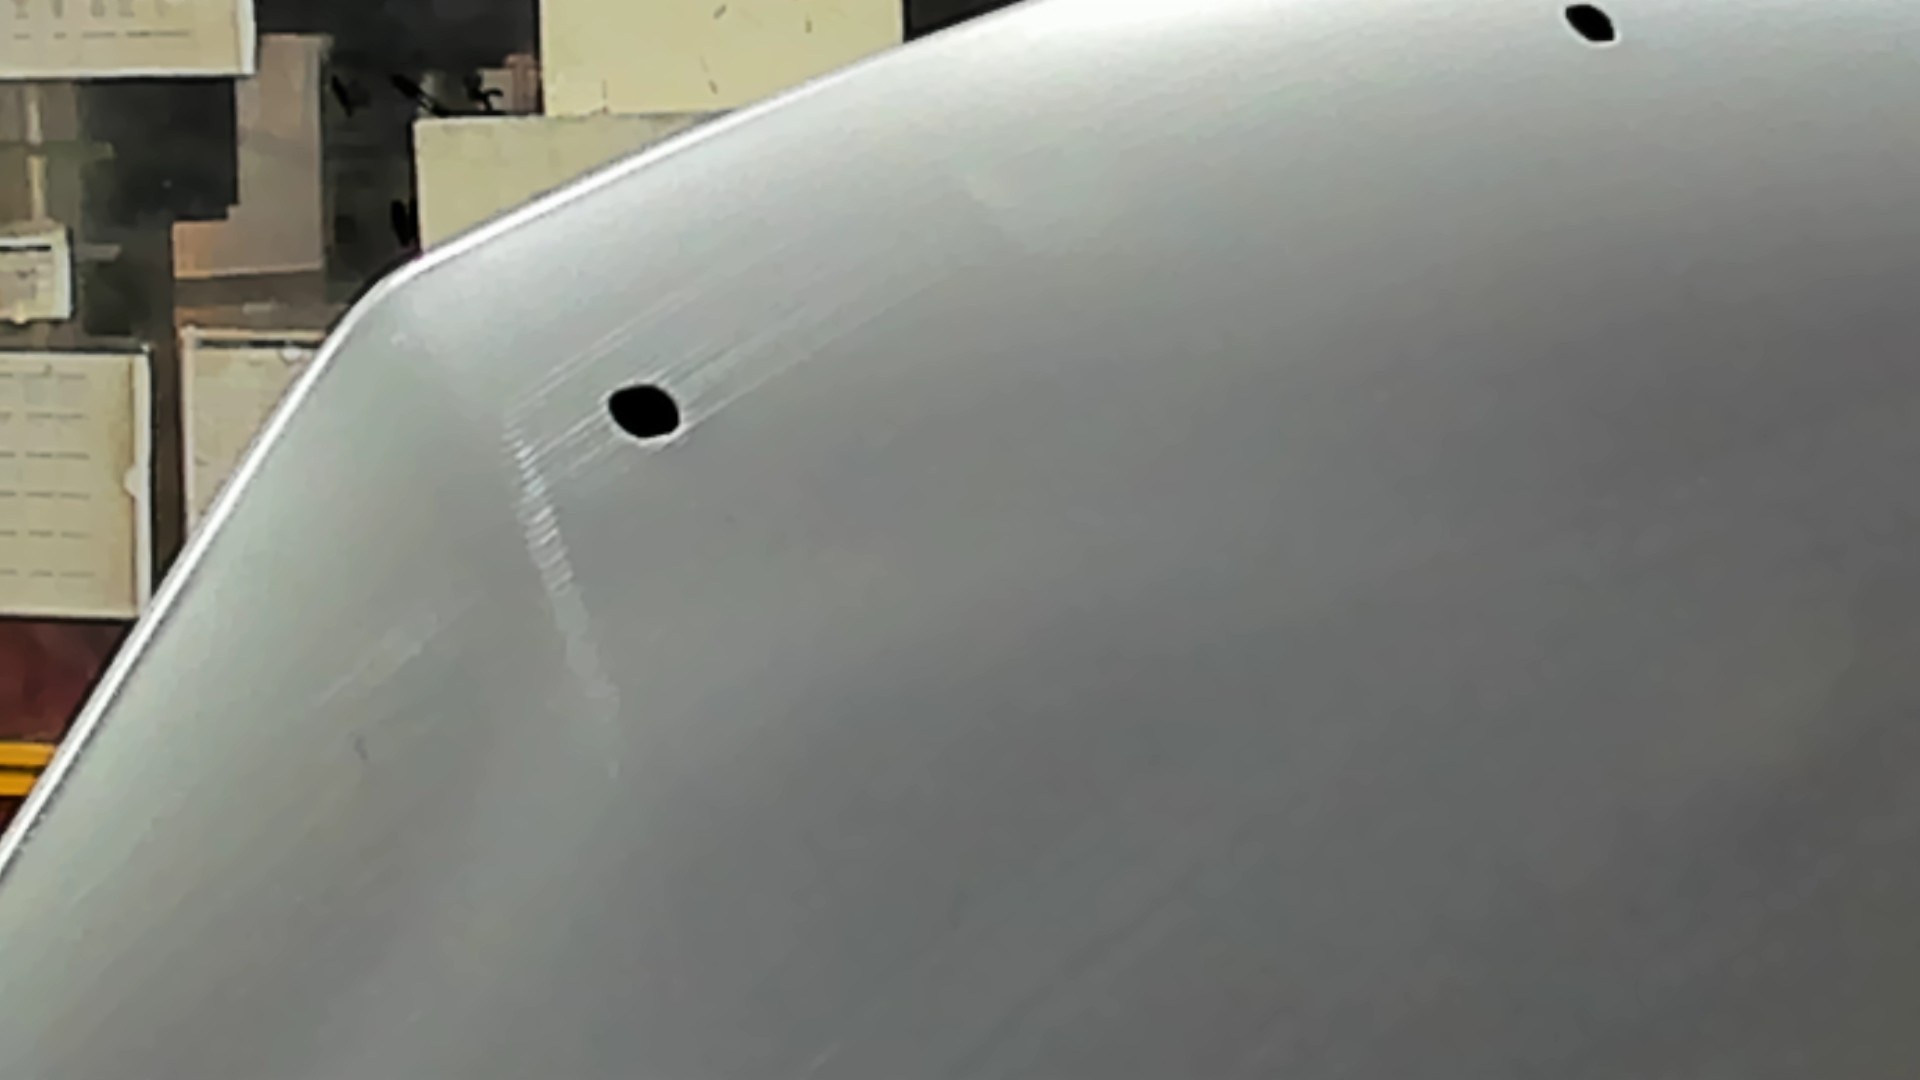amorfo: (595, 372, 696, 444), (1559, 1, 1627, 49)
